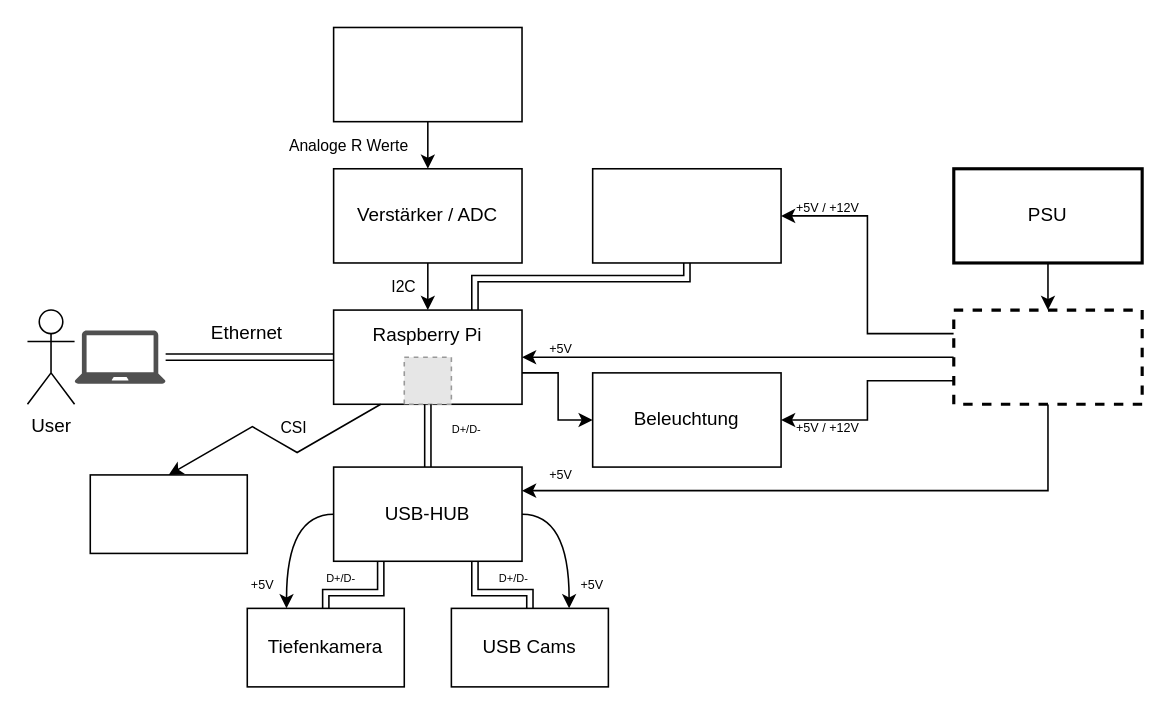
This 1171x714 diagram has some shape labels left out. Grey dashed boxes stand in for pictures. Here are the shapes that lost their labels. From the top down, the centre of each, then its label:
At [427,74]: "Gewichts-sensorik".
At [686,215]: "Raspberry Pi Ein- / Ausschaltung".
At [1047,356]: "Versorgung Verarbeitung".
At [168,513]: "RPI Cams".
